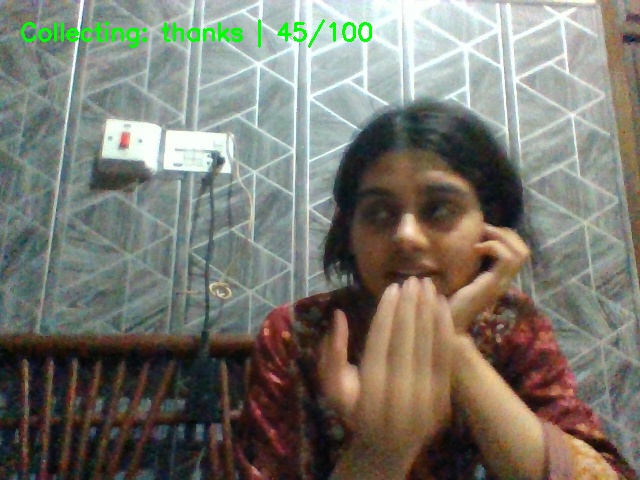thanks: (301, 273, 498, 480)
